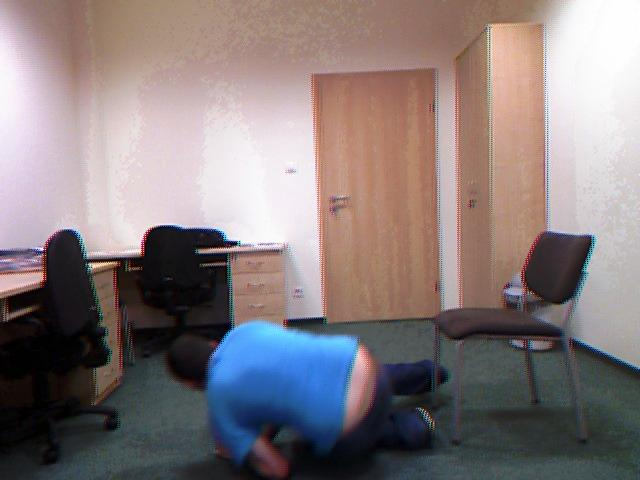fall: (166, 321, 435, 478)
